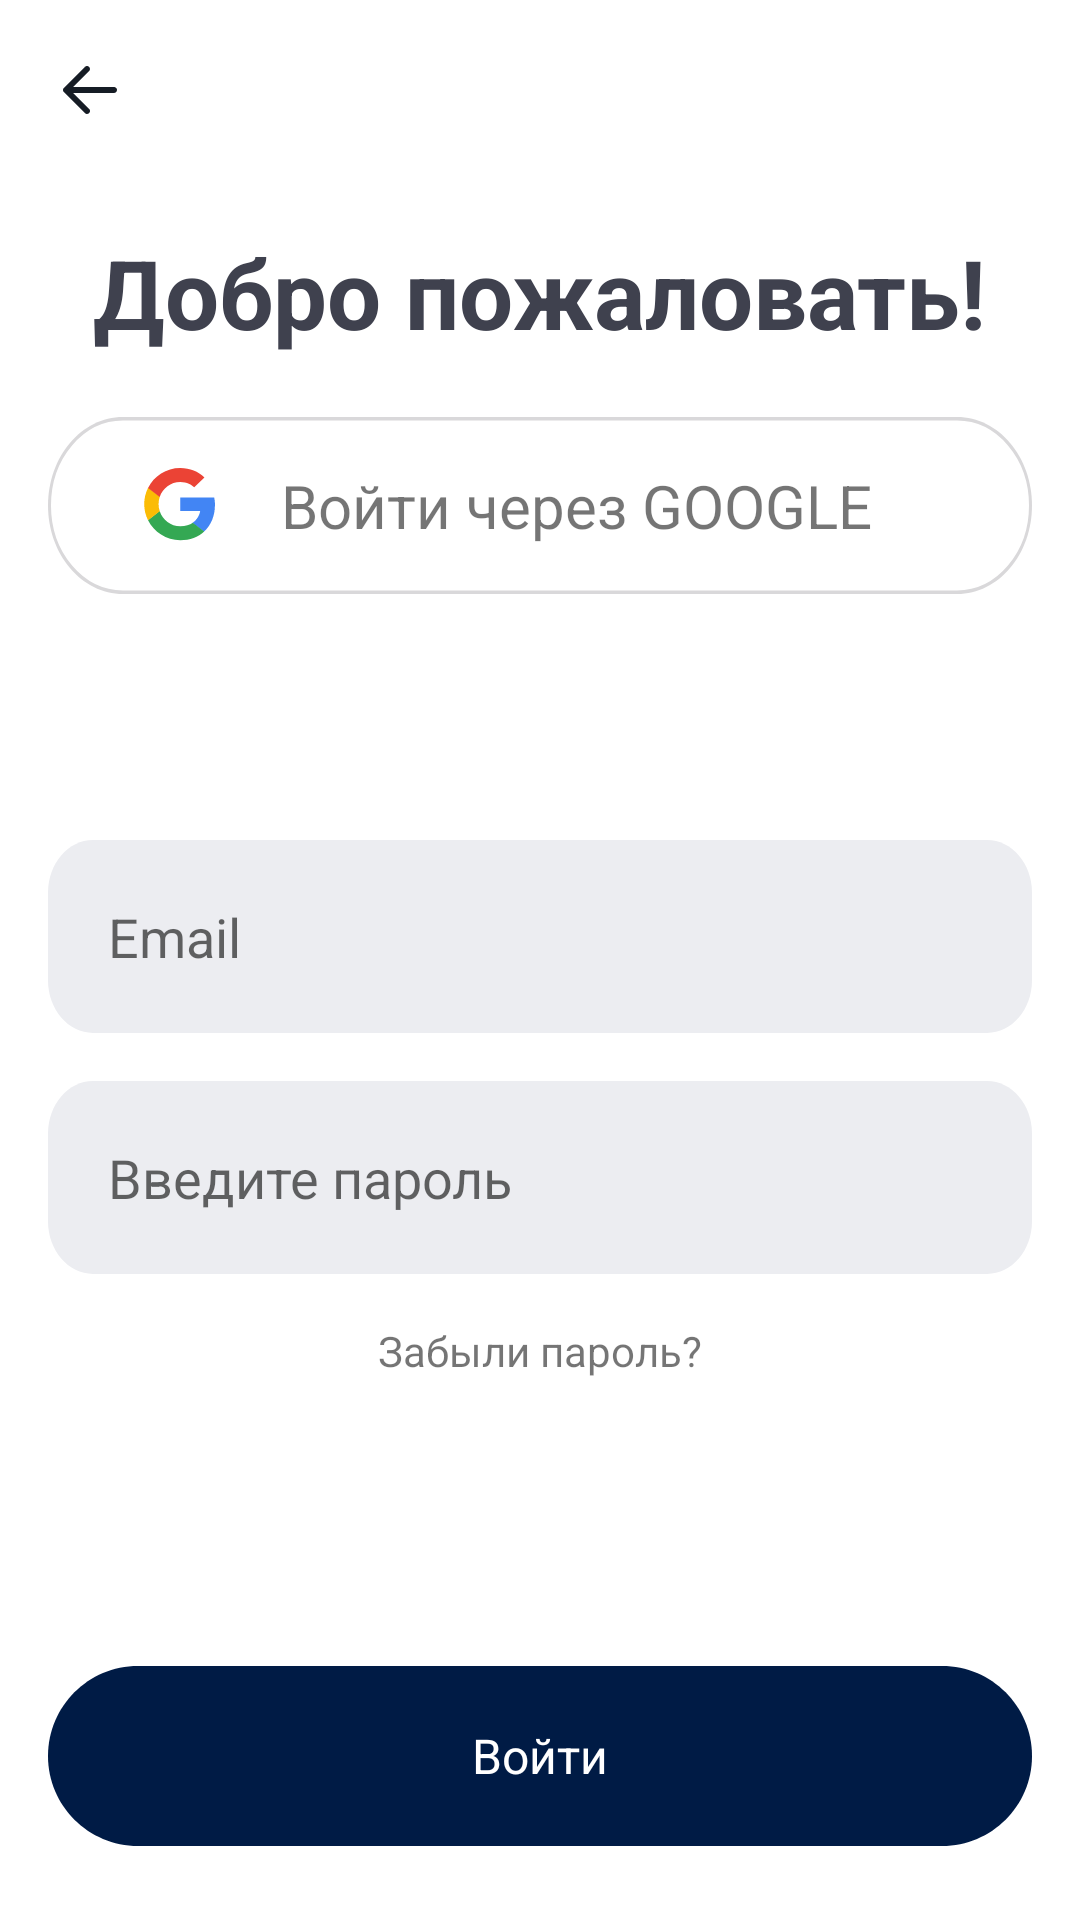

Locate icon controls on the screen. Image size 1080 x 1920, boxes as bbox=[x1, y1, x2, y2].
simple back: bbox=[63, 66, 117, 114]
